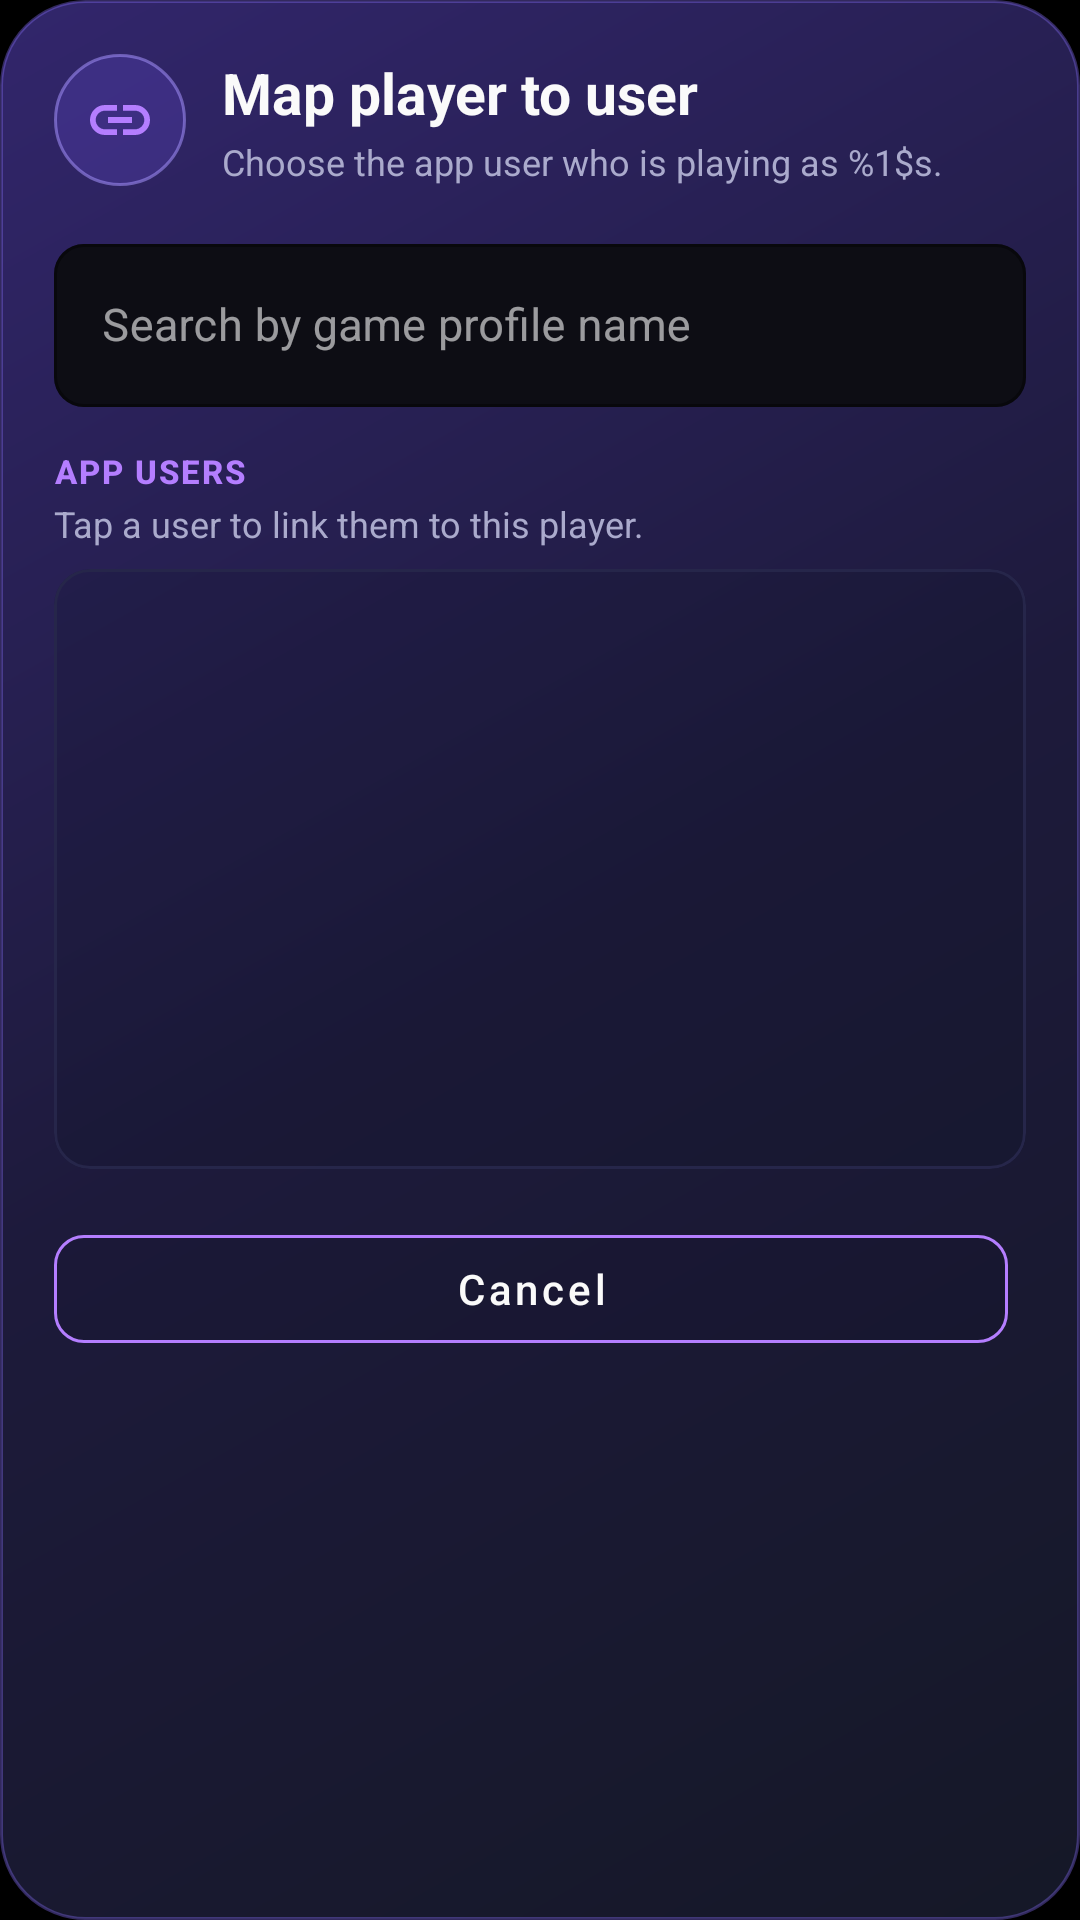

Icons on this 1080x1920 Android screen, each with the point to tap as [x,y]:
Link this player to an app user: [120,120]
